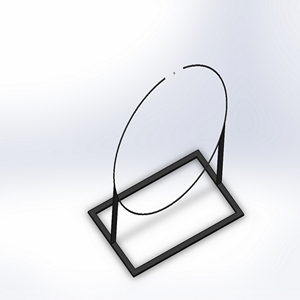circle: (85, 59, 247, 277)
